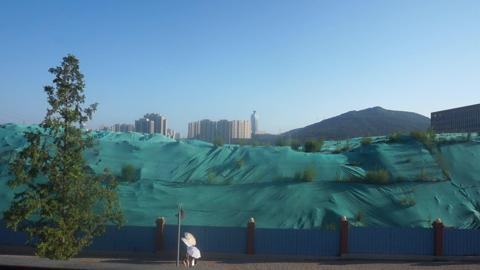UAV: (220, 175, 229, 178)
